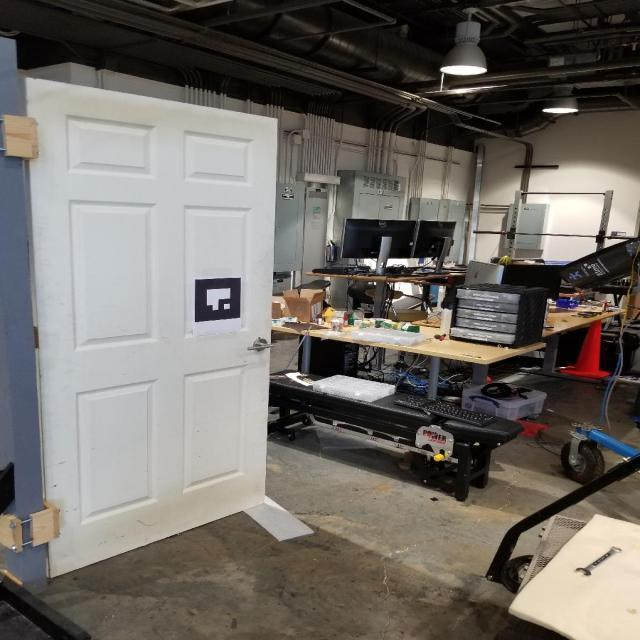door: (17, 73, 279, 580), (242, 336, 272, 351)
